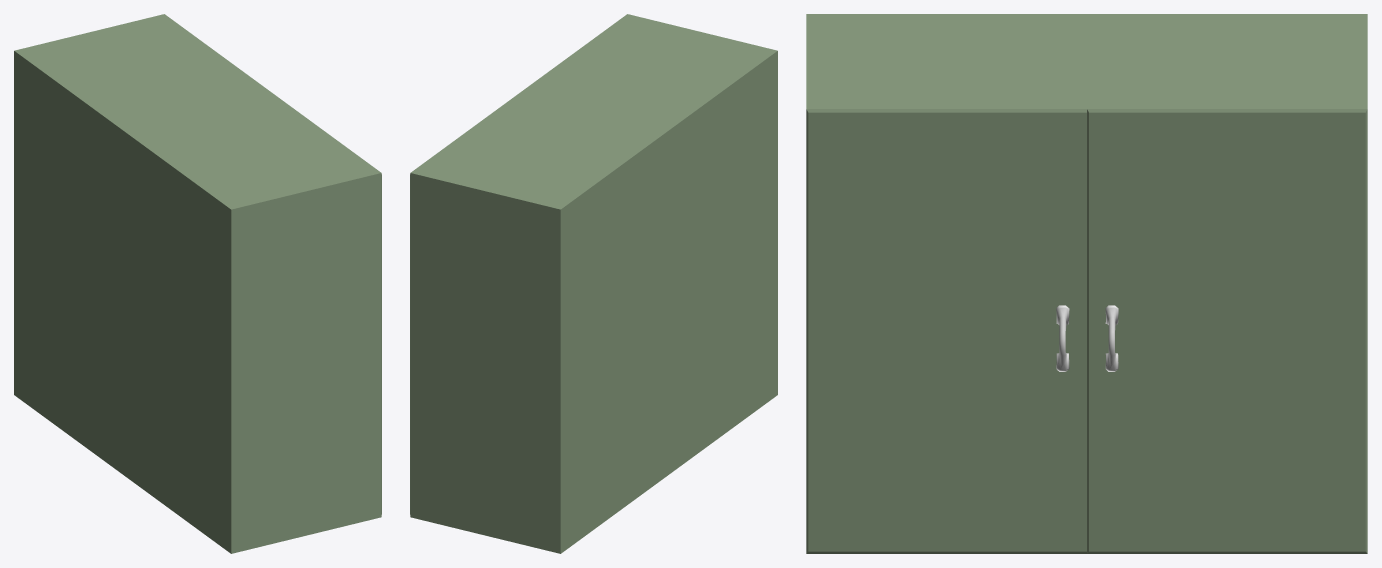
Rendered from Cabinet_Wall2_Double.fbx.
3 views of the same model, side by side, from view 1: azimuth 30°, elevation 25°; view 2: azimuth 150°, elevation 25°; view 3: azimuth 270°, elevation 25° (orthographic). The views are drawn at different scales.
Parts seen in each view (by area): view 1: Cabinet.005, DoorLeft, DoorRight; view 2: Cabinet.005, DoorRight, DoorLeft; view 3: DoorLeft, DoorRight, Cabinet.005.
Part boxes in pixels (left/top/right/bottom): Cabinet.005: left=14, top=16, right=372, bottom=553; DoorLeft: left=264, top=93, right=381, bottom=519; DoorRight: left=155, top=14, right=272, bottom=95; Cabinet.005: left=419, top=16, right=777, bottom=553; DoorRight: left=410, top=93, right=527, bottom=519; DoorLeft: left=519, top=14, right=636, bottom=95; DoorLeft: left=806, top=103, right=1086, bottom=553; DoorRight: left=1087, top=103, right=1367, bottom=553; Cabinet.005: left=806, top=14, right=1367, bottom=102.
Size of the model in its own units: 34.5 by 70 by 80.
